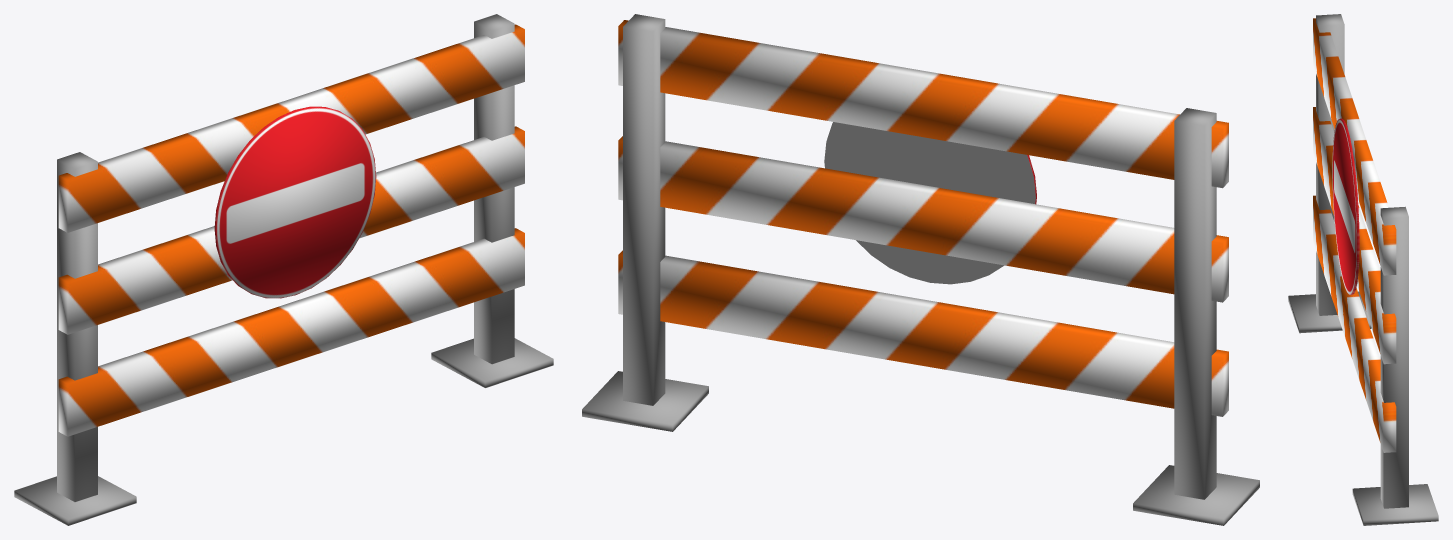
Rendered from road_close1.glb.
The picture shows the model from 3 angles, left to right: view 1: azimuth 30°, elevation 25°; view 2: azimuth 150°, elevation 25°; view 3: azimuth 270°, elevation 25°; orthographic projection. The views are drawn at different scales.
Visible parts, largest first — view 1: s1.jpg__, s3.png__; view 2: s1.jpg__; view 3: s1.jpg__, s3.png__.
Part boxes in pixels (x1=…): s1.jpg__: x1=14, y1=14, x2=553, y2=525; s3.png__: x1=214, y1=106, x2=376, y2=298; s1.jpg__: x1=582, y1=14, x2=1259, y2=525; s1.jpg__: x1=1288, y1=14, x2=1438, y2=525; s3.png__: x1=1332, y1=118, x2=1359, y2=294.
Bounding box in the file's own units: 2.14 × 1.29 × 0.5917.
2 materials, 2 textured.
